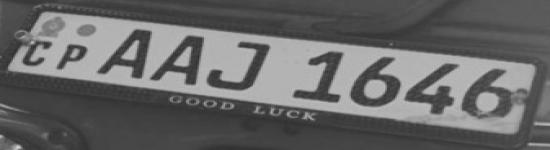1: (293, 47, 348, 104)
4: (402, 59, 463, 119)
6: (463, 64, 520, 123), (347, 53, 402, 113)
A: (97, 24, 153, 82), (152, 32, 205, 89)
C: (20, 39, 54, 70)
J: (208, 38, 274, 96)
P: (56, 42, 90, 72)
